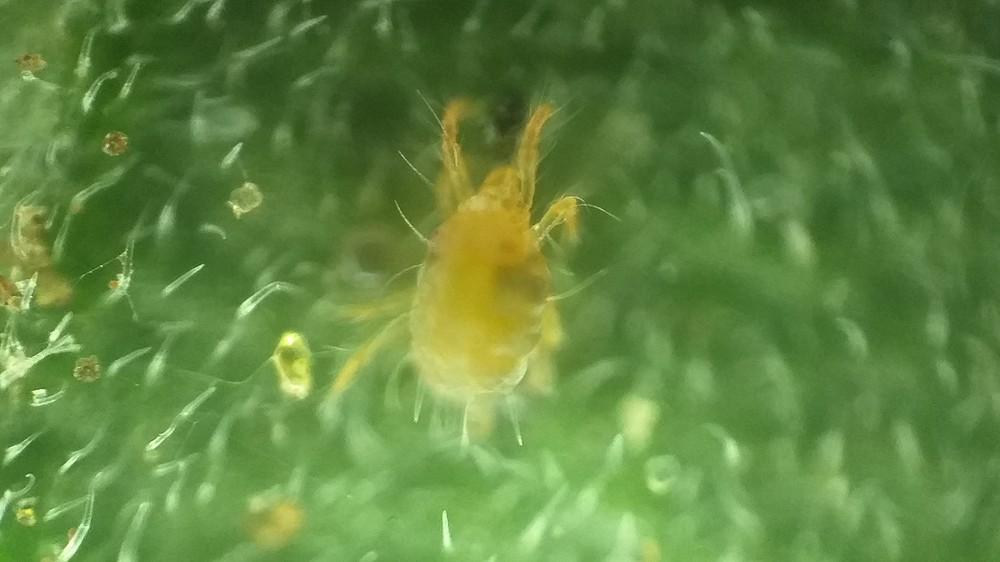Aracnido Rojo: (348, 76, 616, 474)
